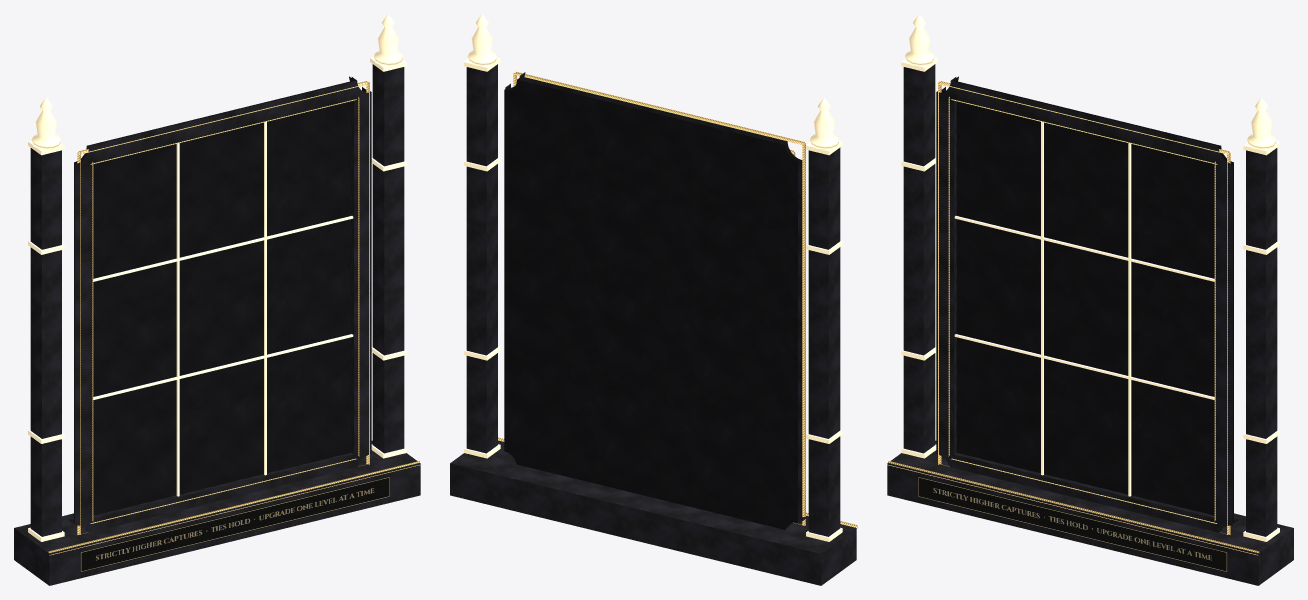
The model's file is mw_board.glb.
3 renders of one model, left to right at view 1: azimuth 30°, elevation 25°; view 2: azimuth 150°, elevation 25°; view 3: azimuth 330°, elevation 25°, orthographic.
Parts seen in each view (by area): view 1: board; view 2: board; view 3: board.
Boxes of the visible parts, x1,y1,x2,y2 form: board: (14, 14, 421, 585); board: (450, 14, 857, 585); board: (886, 14, 1293, 585).
Bounding box in the file's own units: 11.5 × 13.98 × 1.97.
5 materials, 4 textured.
